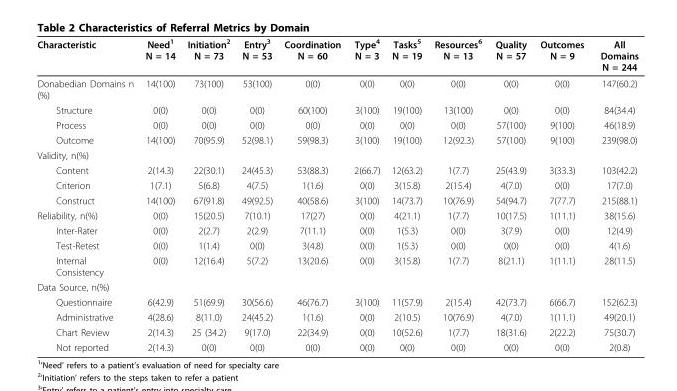table: (36, 36, 637, 352)
table column: (36, 36, 138, 352), (277, 36, 346, 352), (427, 36, 488, 352), (532, 36, 591, 352), (180, 36, 235, 352), (591, 36, 637, 352), (488, 36, 532, 352), (138, 36, 180, 352), (235, 36, 277, 352), (385, 36, 427, 352), (346, 36, 385, 352)
table column header: (36, 36, 637, 74)
table projected row header: (36, 147, 637, 162), (36, 279, 637, 294)
table row: (36, 36, 637, 74), (36, 74, 637, 102), (36, 252, 637, 279), (36, 102, 637, 117), (36, 117, 637, 132), (36, 132, 637, 147), (36, 147, 637, 162), (36, 162, 637, 177), (36, 177, 637, 192), (36, 192, 637, 207), (36, 207, 637, 222), (36, 222, 637, 237), (36, 237, 637, 252), (36, 279, 637, 294), (36, 294, 637, 309), (36, 309, 637, 324), (36, 324, 637, 339), (36, 339, 637, 352)
